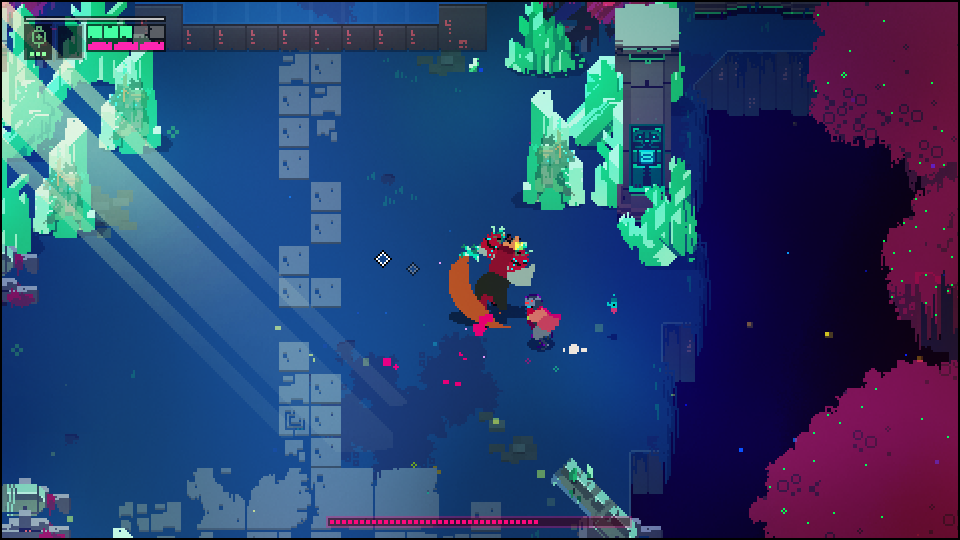hanged_man: (449, 220, 538, 326)
player: (523, 290, 563, 353)
